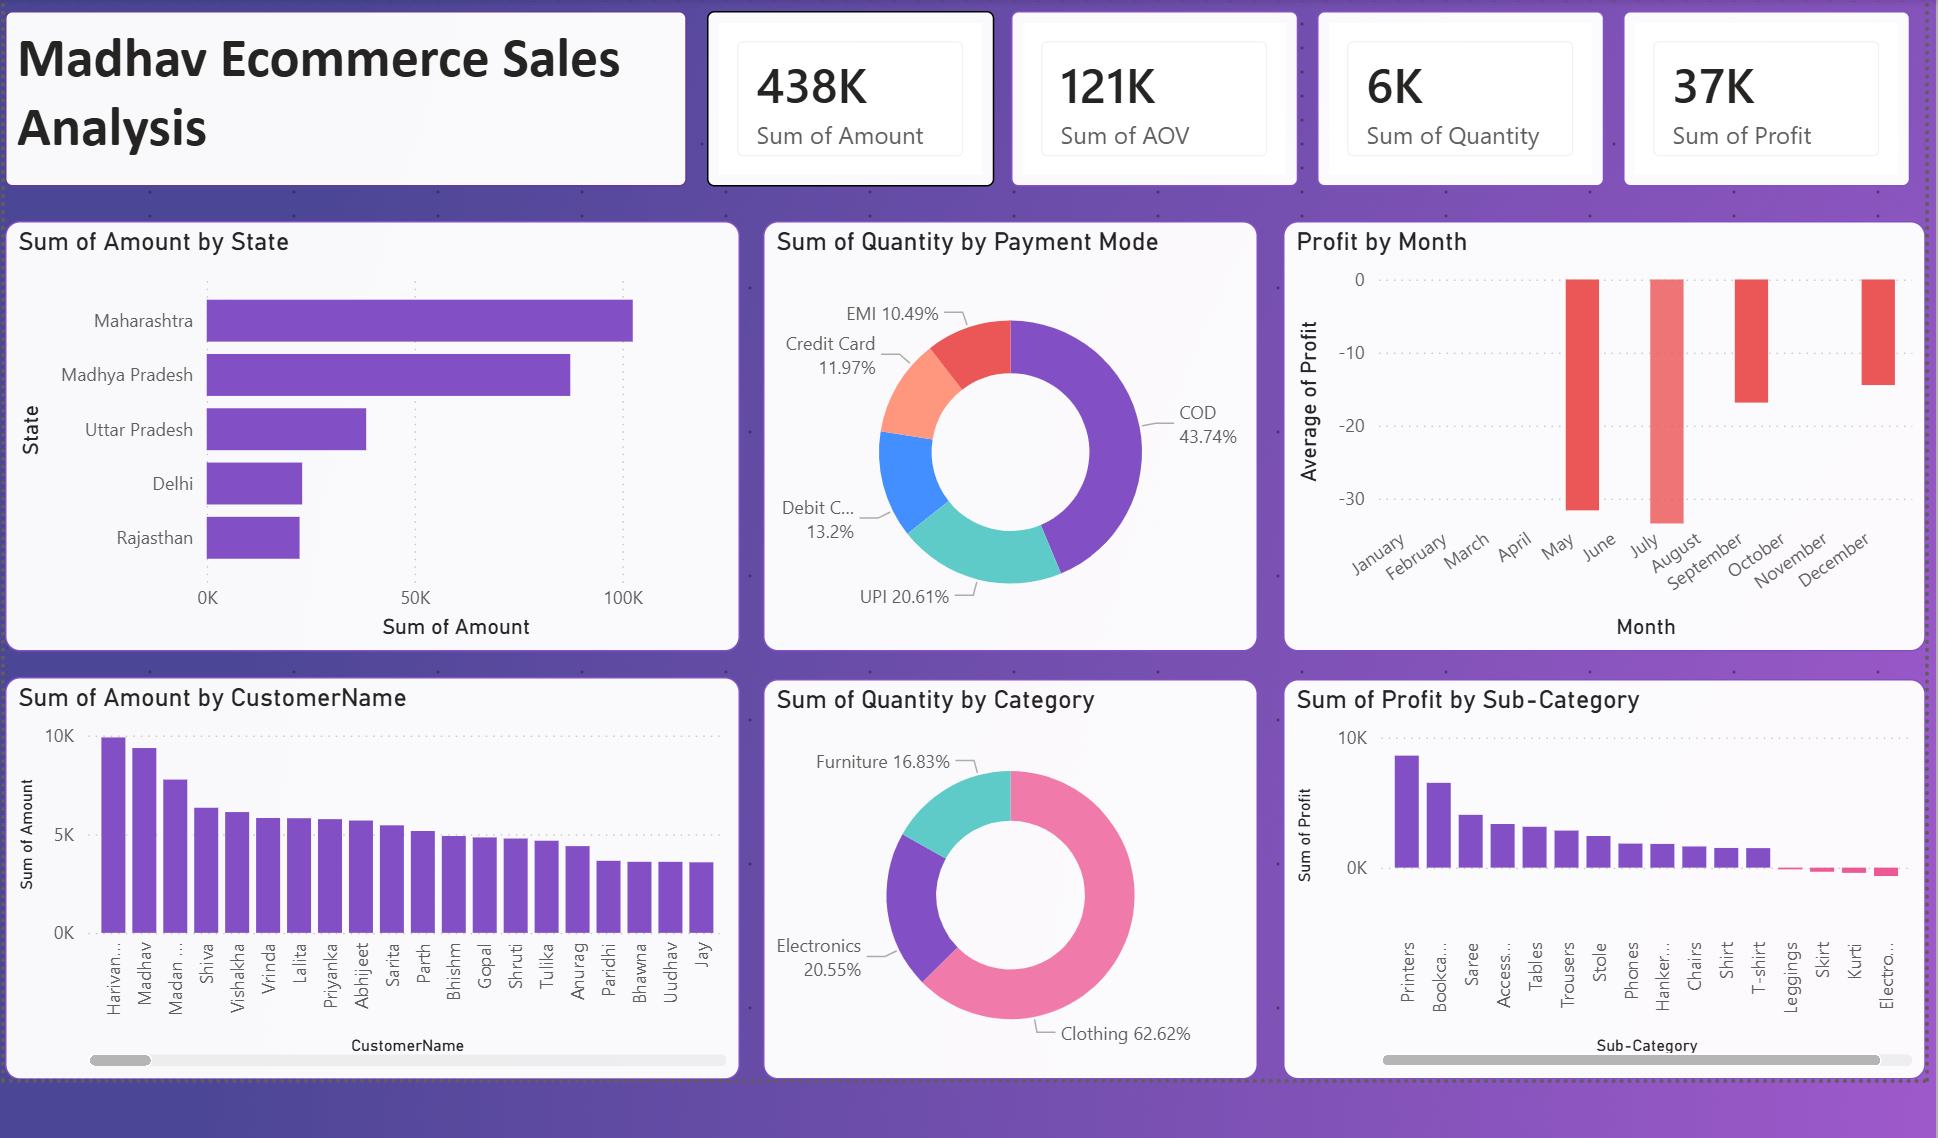

What the dashboard file says about the page in this screenshot:
{"tool":"powerbi","page":{"name":"Page 1","canvas":[1280,720],"ordinal":0},"visuals":[{"type":"clusteredColumnChart","title":"Profit by Month","fields":{"Category":["Orders.Order Date.Variation.Date Hierarchy.Month"],"Y":["Avg(Details.Profit)"]},"box":[851.4,148.6,428.6,287.1],"z":0},{"type":"lineStackedColumnComboChart","fields":{"Category":["Details.Sub-Category"],"Y":["Sum(Details.Profit)"]},"box":[851.4,452.9,428.6,267.1],"z":1000},{"type":"donutChart","fields":{"Y":["Sum(Details.Quantity)"],"Category":["Details.Payment Mode"]},"box":[505.7,148.6,330,287.1],"z":2000},{"type":"donutChart","fields":{"Y":["Sum(Details.Quantity)"],"Category":["Details.Category","Details.AOV"]},"box":[505.7,452.9,330,267.1],"z":3000},{"type":"cardVisual","fields":{"Data":["Sum(Details.Amount)"]},"box":[468.6,8.6,191.4,117.1],"z":4000},{"type":"cardVisual","fields":{"Data":["Sum(Details.Quantity)"]},"box":[874.3,8.6,191.4,117.1],"z":5000},{"type":"cardVisual","fields":{"Data":["Sum(Details.Profit)"]},"box":[1078.6,8.6,191.4,117.1],"z":6000},{"type":"cardVisual","fields":{"Data":["Sum(Details.AOV)"]},"box":[670,8.6,191.4,117.1],"z":7000},{"type":"barChart","fields":{"Category":["Orders.State"],"Y":["Sum(Details.Amount)"]},"box":[0,148.6,490,287.1],"z":8000},{"type":"columnChart","fields":{"Category":["Orders.CustomerName"],"Y":["Sum(Details.Amount)"]},"box":[0,451.4,490,268.6],"z":9000},{"type":"textbox","box":[0,8.6,454.3,117.1],"z":10000}]}

Visuals, with their boxes in screenshot pixels (x1, y1, x2, y2):
"Profit by Month" clusteredColumnChart: locate(1271, 217, 1911, 646)
lineStackedColumnComboChart - Details.Sub-Category x Sum(Details.Profit): locate(1271, 671, 1911, 1070)
donutChart - Sum(Details.Quantity) x Details.Payment Mode: locate(755, 217, 1248, 646)
donutChart - Sum(Details.Quantity) x Details.Category: locate(755, 671, 1248, 1070)
cardVisual - Sum(Details.Amount): locate(700, 8, 985, 183)
cardVisual - Sum(Details.Quantity): locate(1305, 8, 1591, 183)
cardVisual - Sum(Details.Profit): locate(1610, 8, 1896, 183)
cardVisual - Sum(Details.AOV): locate(1000, 8, 1286, 183)
barChart - Orders.State x Sum(Details.Amount): locate(0, 217, 732, 646)
columnChart - Orders.CustomerName x Sum(Details.Amount): locate(0, 669, 732, 1070)
textbox: locate(0, 8, 678, 183)
